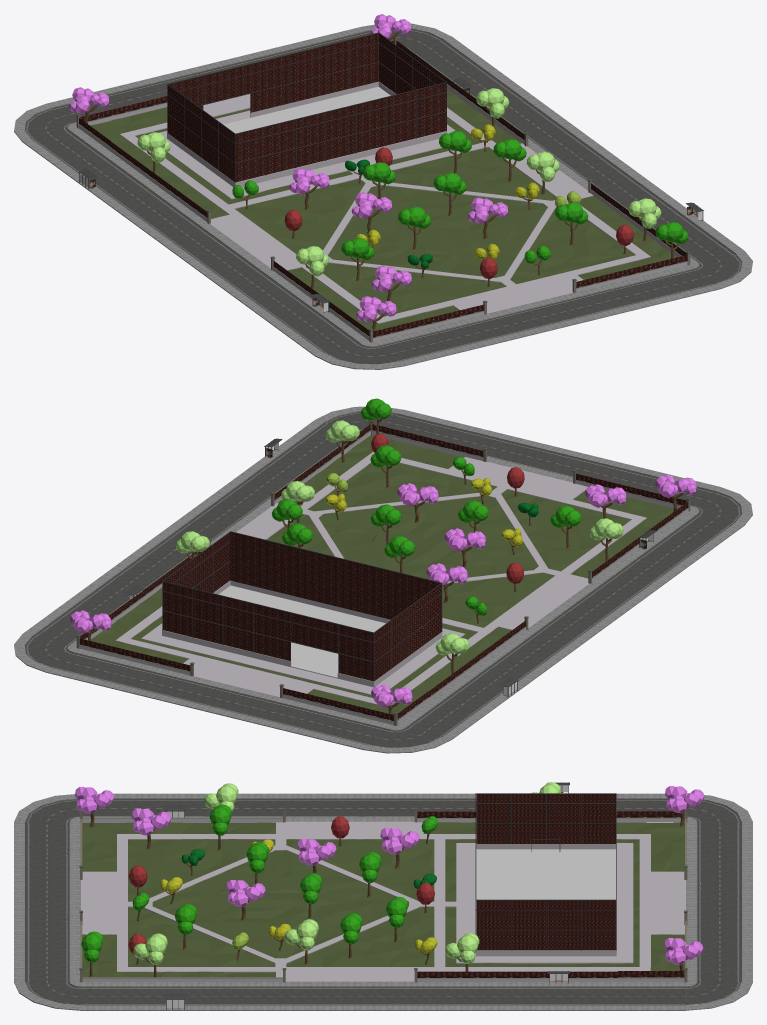
Rendered from SlapField.fbx.
3 renders of one model, top to bottom at view 1: azimuth 30°, elevation 25°; view 2: azimuth 150°, elevation 25°; view 3: azimuth 270°, elevation 25°, orthographic. The views are drawn at different scales.
Visible parts, largest first — view 1: Plane.014, Plane.039, Plane.028, Plane.027, Plane.029, Plane.030, Plane.032, Plane.031, Plane.035, Plane.038, Plane.034, Plane.036 (+10 smaller); view 2: Plane.014, Plane.039, Plane.029, Plane.028, Plane.031, Plane.030, Plane.027, Plane.033, Plane.032, Plane.035, Plane.038, Plane.036 (+6 smaller); view 3: Plane.014, Plane.039, Plane.027, Plane.028, Plane.030, Plane.031, Plane.032, Plane.029, Plane.033, Plane.038, Plane.034, Plane.037 (+9 smaller).
Boxes of the visible parts, x1,y1,x2,y2 form: Plane.014: (14, 23, 752, 369); Plane.039: (90, 89, 676, 330); Plane.028: (467, 197, 507, 239); Plane.027: (289, 168, 329, 209); Plane.029: (351, 192, 391, 233); Plane.030: (371, 265, 411, 301); Plane.032: (69, 87, 108, 123); Plane.031: (356, 296, 396, 331); Plane.035: (296, 246, 328, 289); Plane.038: (628, 198, 661, 241); Plane.034: (526, 151, 559, 194); Plane.036: (137, 132, 170, 173); Plane.014: (14, 406, 752, 753); Plane.039: (91, 435, 677, 714); Plane.029: (444, 528, 485, 568); Plane.028: (397, 483, 438, 523); Plane.031: (655, 474, 696, 511); Plane.030: (585, 484, 626, 518); Plane.027: (426, 563, 467, 603); Plane.033: (70, 610, 111, 641); Plane.032: (371, 684, 412, 714); Plane.035: (589, 518, 623, 560); Plane.038: (325, 420, 359, 462); Plane.036: (435, 633, 469, 673); Plane.014: (14, 782, 752, 1010); Plane.039: (82, 822, 684, 977); Plane.027: (380, 827, 419, 868); Plane.028: (226, 880, 265, 920); Plane.030: (131, 808, 170, 849); Plane.031: (75, 786, 114, 827); Plane.032: (665, 786, 704, 826); Plane.029: (297, 838, 336, 873); Plane.033: (664, 938, 703, 970); Plane.038: (133, 933, 167, 977); Plane.034: (284, 919, 318, 964); Plane.037: (445, 933, 479, 971).
Bounding box in the file's own units: 9186 × 1148 × 13252.
